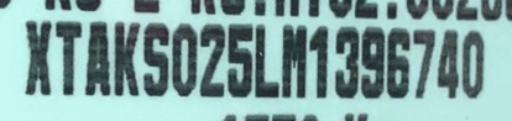letter: (222, 20, 252, 97), (53, 20, 83, 95), (140, 21, 170, 96), (330, 23, 360, 98), (196, 22, 224, 99), (279, 22, 307, 99), (23, 20, 51, 95), (110, 20, 138, 95), (170, 21, 198, 96), (83, 21, 111, 96), (384, 25, 412, 100), (409, 26, 437, 97), (254, 21, 280, 96), (436, 27, 462, 100), (360, 23, 384, 98), (462, 27, 486, 100), (308, 23, 330, 96)
